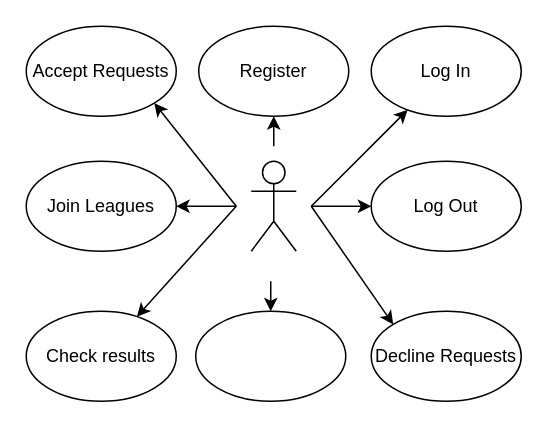
The diagram is 548 pixels wide and 428 high, and some of its shapes have lost their labels. The centre of each missing label's shape, as x and y in pixels:
"Find Leagues" belongs at (x=270, y=355).
"User" belongs at (x=273, y=205).
